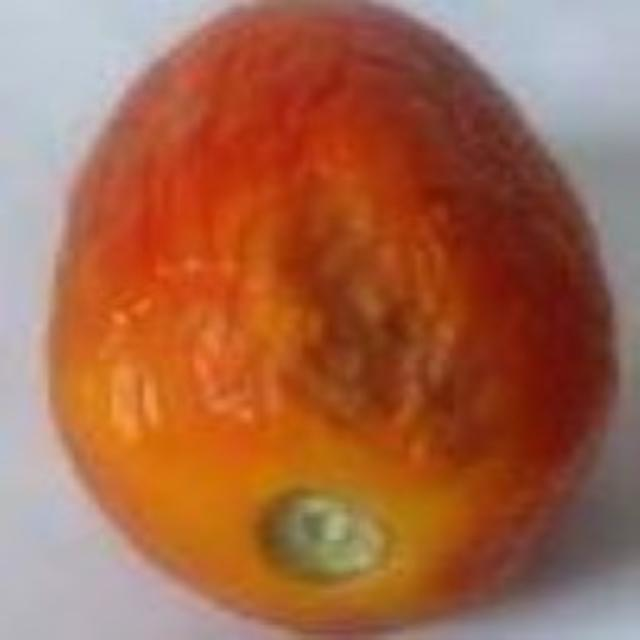defect: (39, 0, 618, 634)
